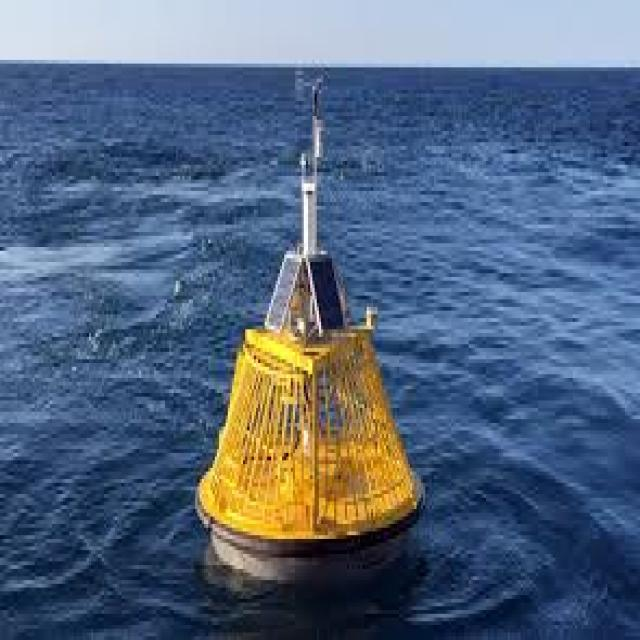buoy: (191, 198, 425, 577)
